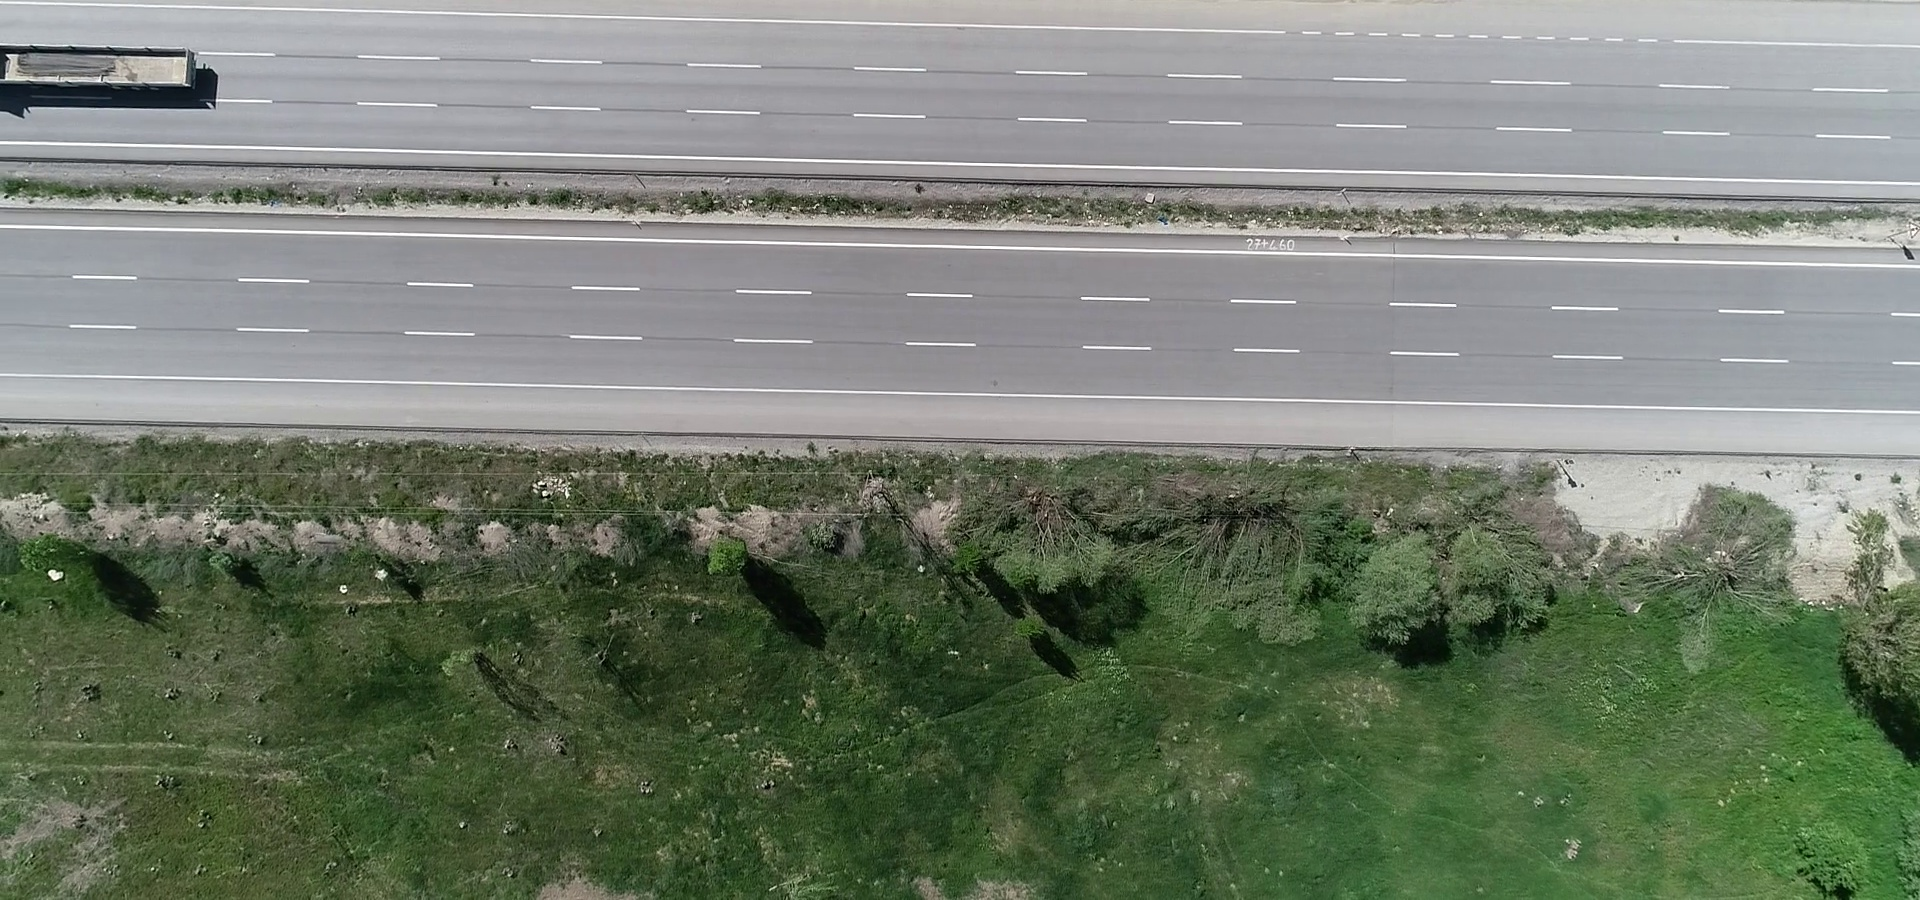kamyon: (1, 42, 216, 97)
